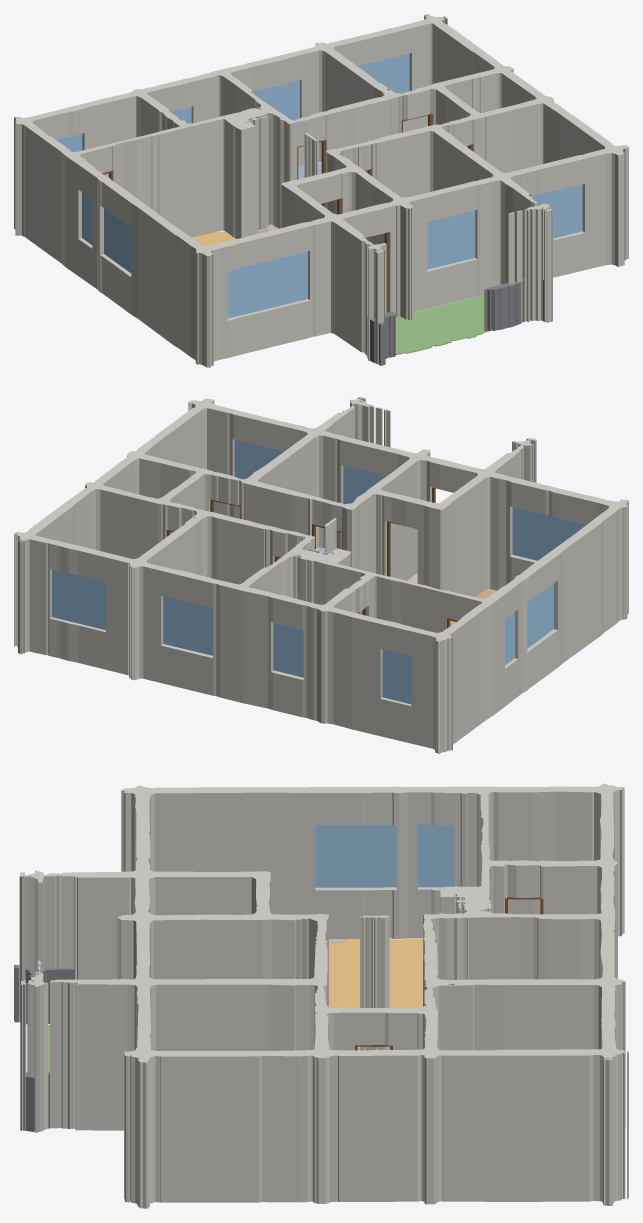
3 renders of one model, top to bottom at view 1: azimuth 30°, elevation 25°; view 2: azimuth 150°, elevation 25°; view 3: azimuth 270°, elevation 25°, orthographic. The views are drawn at different scales.
Visible parts, largest first — view 1: walls, window_17, floor_0_Outdoor, railings, window_16, window_15, window_14, window_10, window_9, window_13; view 2: walls, window_10, window_17, window_9, window_12, window_11, window_14, window_15, window_16; view 3: walls, window_14, floor_1_Kitchen, window_13, railings.
Part boxes in pixels (box(x1,y1,x2,y2)): walls: box(14, 14, 628, 367); window_17: box(227, 251, 307, 318); floor_0_Outdoor: box(395, 295, 488, 354); railings: box(367, 279, 543, 365); window_16: box(427, 210, 475, 269); window_15: box(533, 184, 582, 238); window_14: box(104, 208, 131, 272); window_10: box(357, 53, 409, 93); window_9: box(252, 80, 299, 120); window_13: box(82, 192, 92, 244); walls: box(14, 396, 628, 754); window_10: box(52, 569, 105, 629); window_17: box(512, 507, 585, 560); window_9: box(163, 596, 212, 655); window_12: box(273, 623, 303, 677); window_11: box(382, 649, 411, 704); window_14: box(527, 583, 553, 648); window_15: box(234, 440, 283, 479); window_16: box(343, 466, 385, 504); walls: box(19, 783, 628, 1208); window_14: box(315, 825, 396, 887); floor_1_Kitchen: box(329, 938, 422, 1049); window_13: box(417, 824, 453, 887); railings: box(14, 964, 74, 1131).
Bounding box in the file's own units: 11.08 × 2.72 × 10.3.
